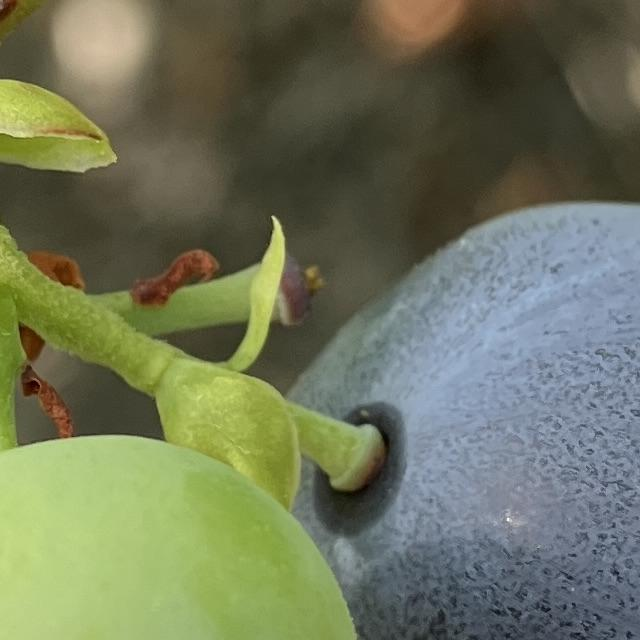Blueberries: (274, 194, 640, 640)
